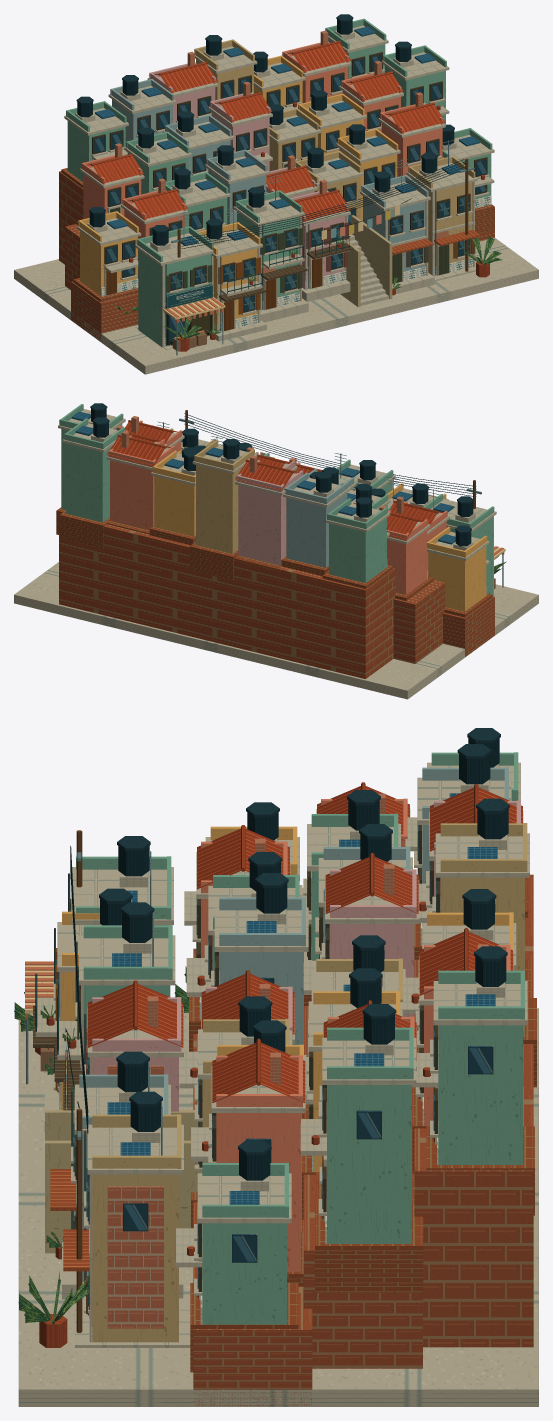
File: hillside-lod1.glb
3 renders of one model, top to bottom at view 1: azimuth 30°, elevation 25°; view 2: azimuth 150°, elevation 25°; view 3: azimuth 270°, elevation 25°, orthographic. The views are drawn at different scales.
Visible parts, largest first — view 1: hillside-lod1; view 2: hillside-lod1; view 3: hillside-lod1.
Part boxes in pixels (left/top/right/bottom): hillside-lod1: left=14, top=14, right=538, bottom=374; hillside-lod1: left=14, top=403, right=538, bottom=699; hillside-lod1: left=14, top=728, right=538, bottom=1406.
Size of the model in its own units: 20.84 by 10.25 by 12.11.
1 material, 1 textured.
